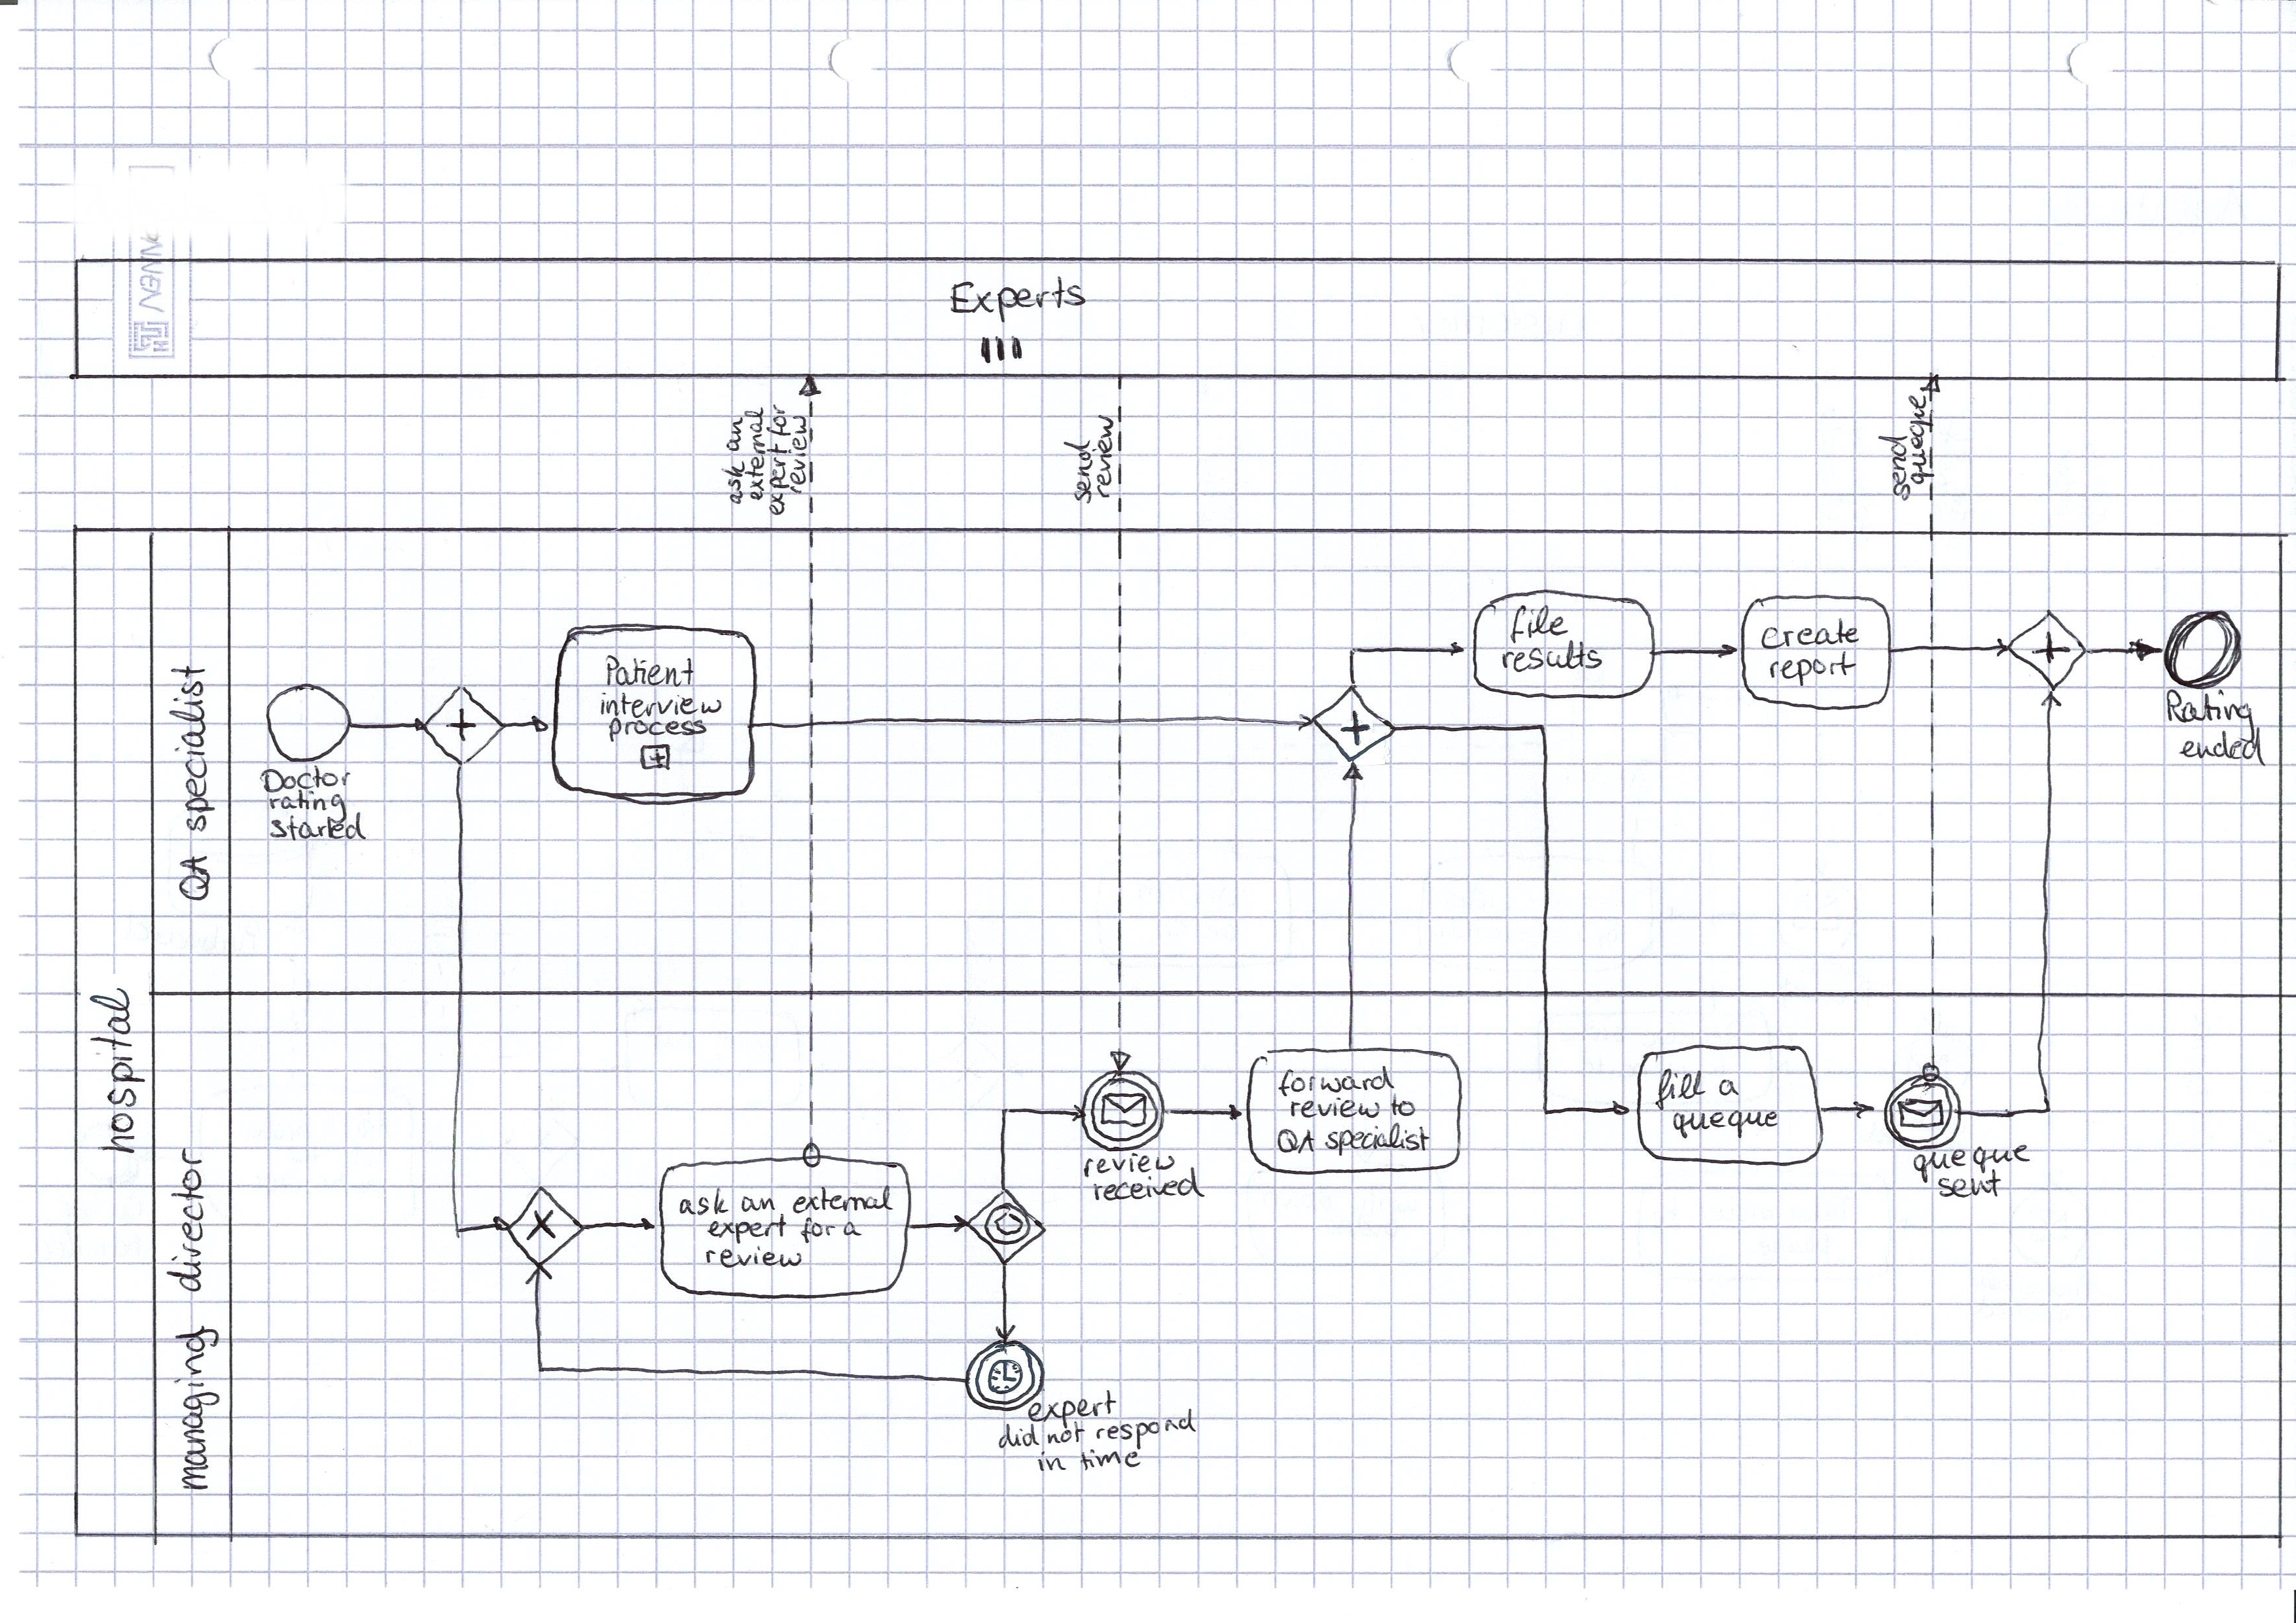Doctor: (255, 760, 356, 798)
Experts: (944, 272, 1091, 329)
Patient: (600, 649, 701, 692)
QA: (173, 849, 216, 905), (1270, 1123, 1321, 1159)
Rating: (2160, 683, 2260, 749)
a: (1714, 1073, 1745, 1101), (838, 1217, 866, 1242)
an: (736, 1189, 780, 1217), (721, 412, 747, 455)
ask: (673, 1181, 733, 1220), (717, 456, 749, 509)
create: (1755, 613, 1865, 656)
did: (993, 1419, 1044, 1454)
director: (161, 1140, 210, 1298)
ended: (2173, 722, 2271, 774)
expert: (1023, 1385, 1122, 1435), (702, 1209, 792, 1249), (762, 439, 795, 521)
external: (787, 1179, 899, 1219), (738, 404, 770, 504)
file: (1503, 598, 1575, 649)
fill: (1648, 1064, 1712, 1116)
for: (795, 1212, 841, 1248), (761, 399, 795, 441)
forward: (1272, 1060, 1400, 1102)
hospital: (81, 982, 151, 1160)
in: (1032, 1446, 1072, 1476)
interview: (593, 685, 727, 723)
managing: (164, 1320, 228, 1498)
not: (1042, 1417, 1090, 1448)
process: (603, 712, 712, 747)
queque: (1906, 1137, 2035, 1188), (1666, 1105, 1784, 1143), (1902, 390, 1939, 490)
rating: (264, 785, 352, 830)
received: (1087, 1162, 1210, 1207)
report: (1765, 645, 1861, 693)
respond: (1090, 1401, 1202, 1455)
results: (1496, 634, 1609, 677)
review: (699, 1239, 808, 1274), (1078, 1147, 1180, 1183), (1086, 410, 1119, 504), (1286, 1094, 1384, 1122), (784, 410, 812, 499)
send: (1871, 429, 1916, 507), (1056, 435, 1098, 509)
sent: (1931, 1164, 2007, 1204)
specialist: (164, 660, 221, 838), (1319, 1118, 1437, 1162)
started: (264, 808, 373, 847)
time: (1075, 1444, 1146, 1476)
to: (1385, 1089, 1420, 1120)
